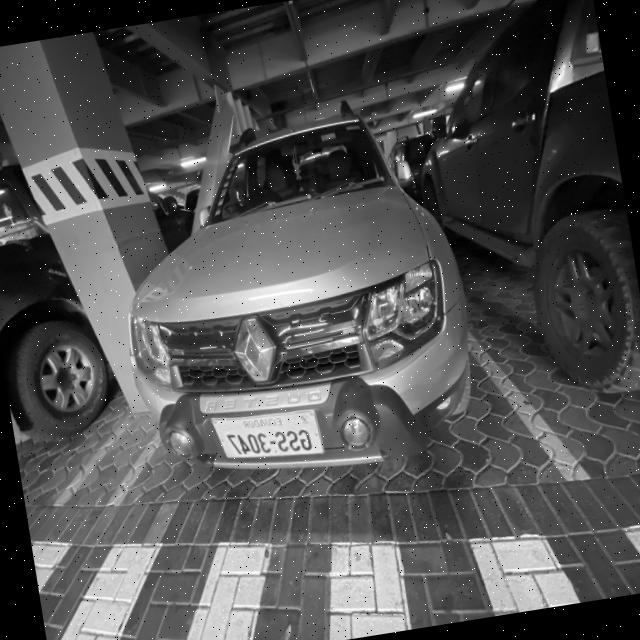Placa: (212, 410, 323, 458)
